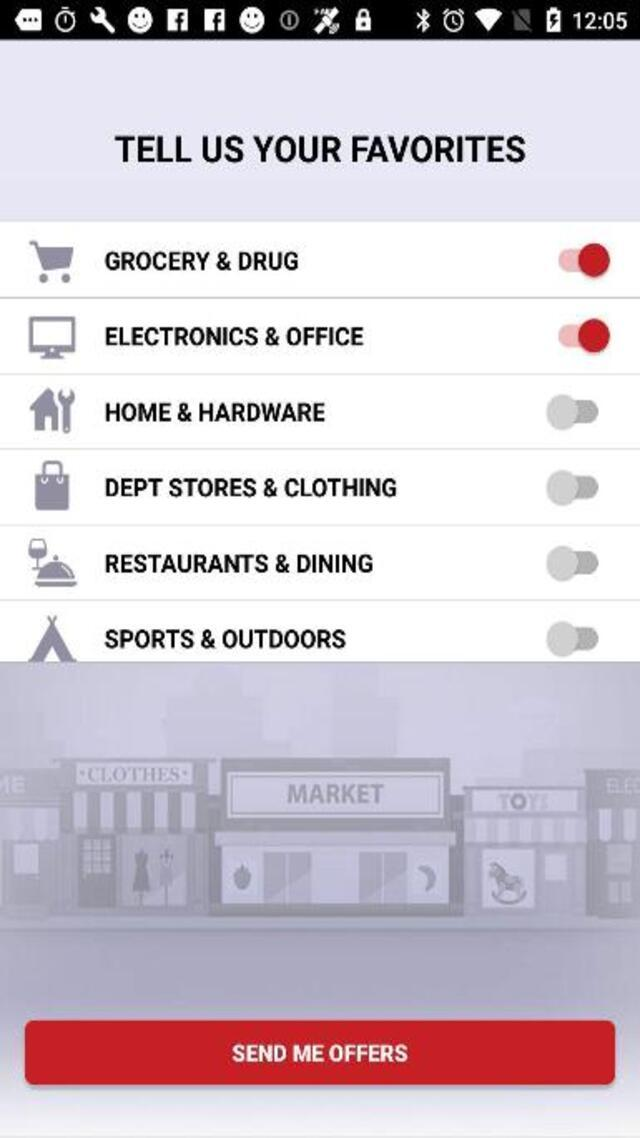CheckedTextView: (542, 392, 600, 432), (556, 241, 612, 281), (557, 316, 612, 356), (544, 618, 600, 657), (546, 466, 599, 507), (544, 546, 598, 580)
Icon: (27, 537, 79, 587), (25, 612, 78, 660), (28, 387, 75, 434), (28, 316, 76, 360), (28, 241, 75, 285), (36, 460, 70, 512)
Text: (113, 132, 524, 162), (106, 477, 397, 497), (105, 552, 374, 572), (228, 1040, 414, 1068), (105, 326, 364, 346), (104, 628, 345, 648), (105, 403, 324, 422), (104, 252, 298, 272)
TextButton: (23, 1020, 615, 1086)
